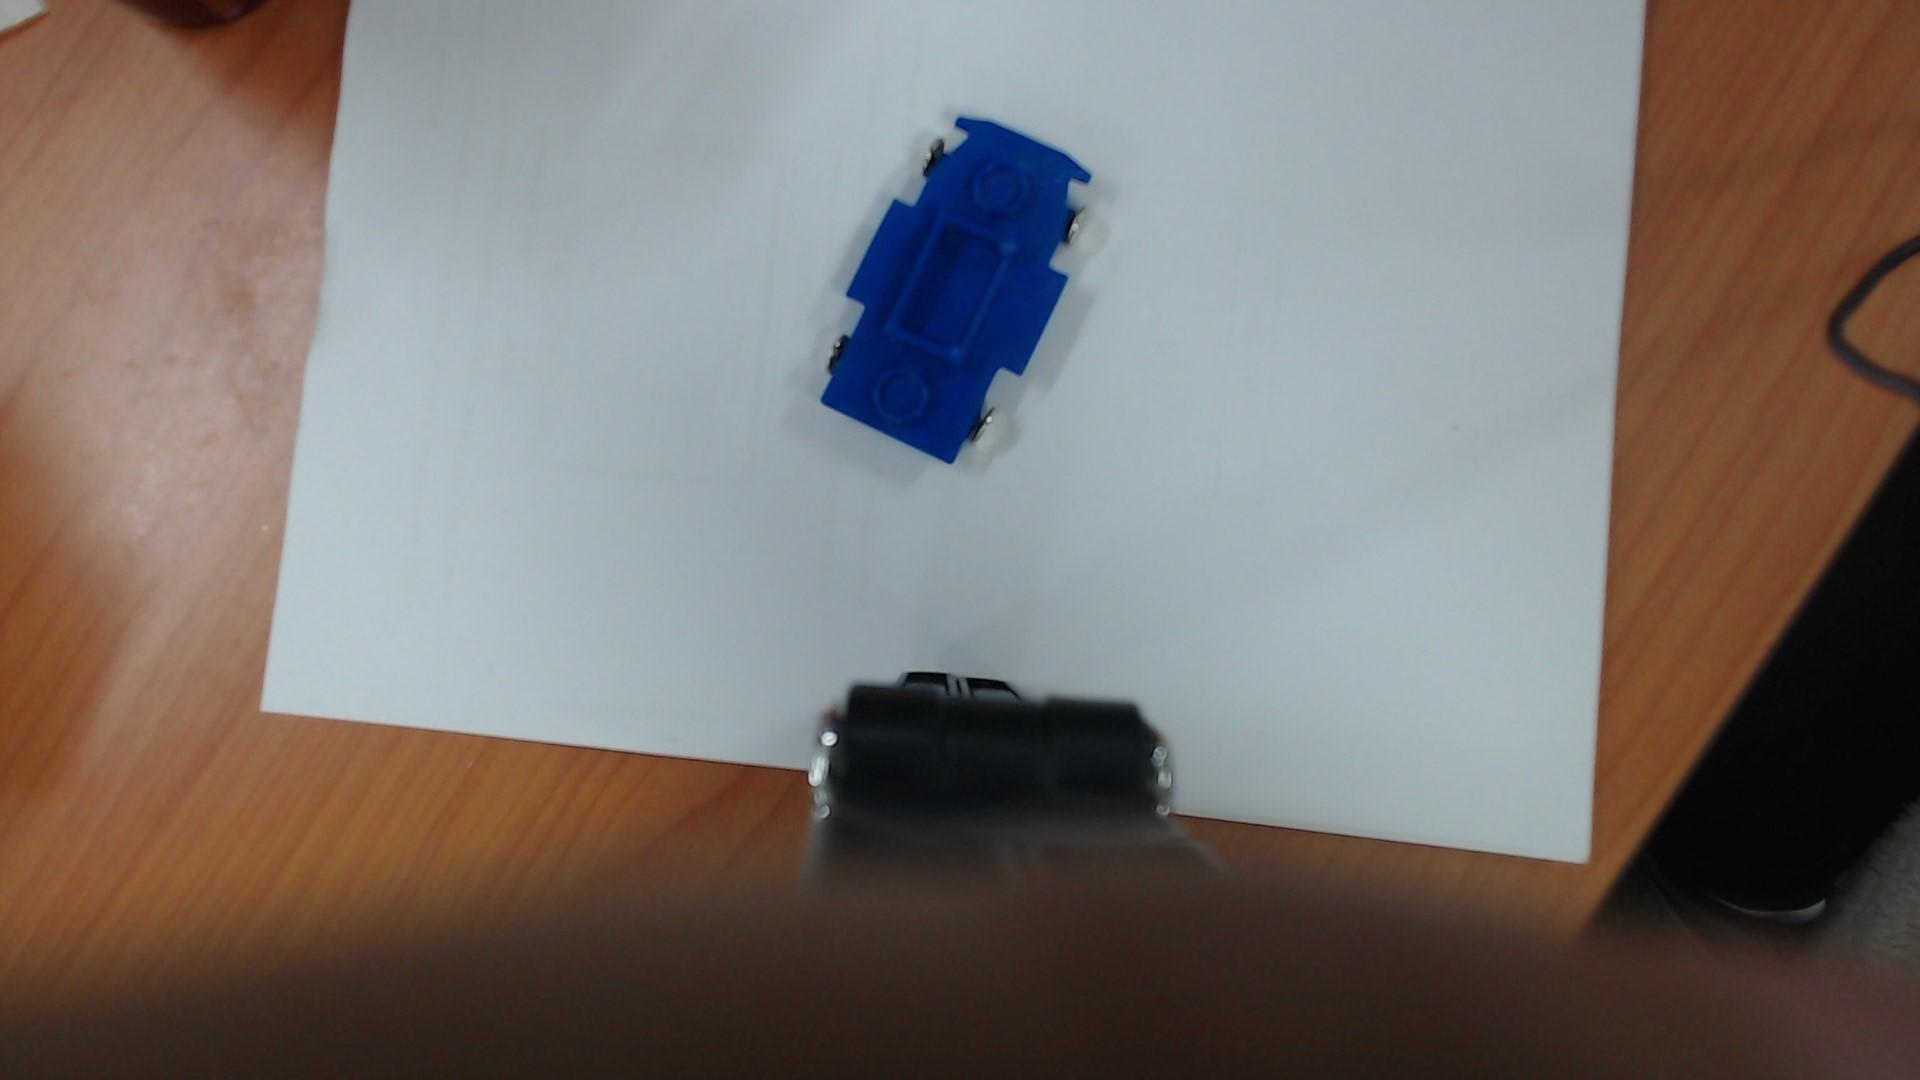lower_ng: (873, 206, 1026, 371)
